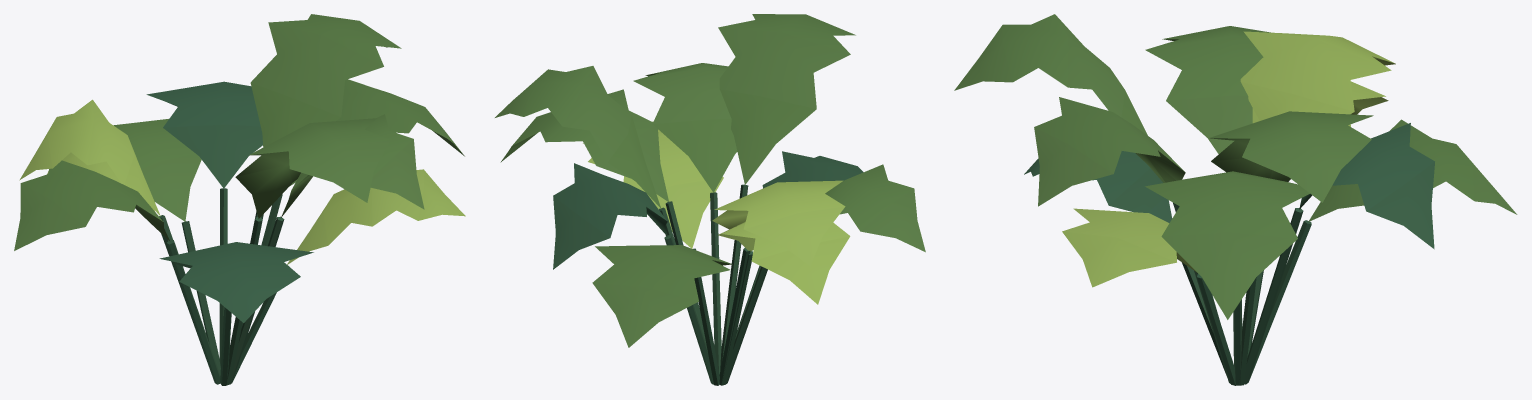
The model's file is foliage_coastal_split_a.glb.
The picture shows the model from 3 angles, left to right: view 1: azimuth 30°, elevation 25°; view 2: azimuth 150°, elevation 25°; view 3: azimuth 270°, elevation 25°; orthographic projection. The views are drawn at different scales.
Parts seen in each view (by area): view 1: foliage_coastal_split_a_LOD0; view 2: foliage_coastal_split_a_LOD0; view 3: foliage_coastal_split_a_LOD0.
Boxes of the visible parts, bbox=[...] form: foliage_coastal_split_a_LOD0: bbox=[14, 14, 465, 385]; foliage_coastal_split_a_LOD0: bbox=[495, 14, 925, 385]; foliage_coastal_split_a_LOD0: bbox=[954, 14, 1517, 385].
Size of what is drawn, in the model's own units: 2.29 by 1.52 by 2.22.
